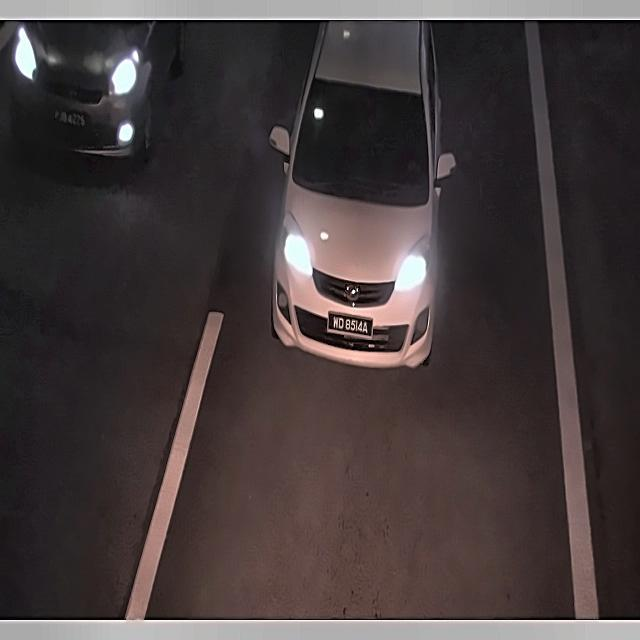car: (324, 304, 382, 349), (48, 100, 93, 141)
